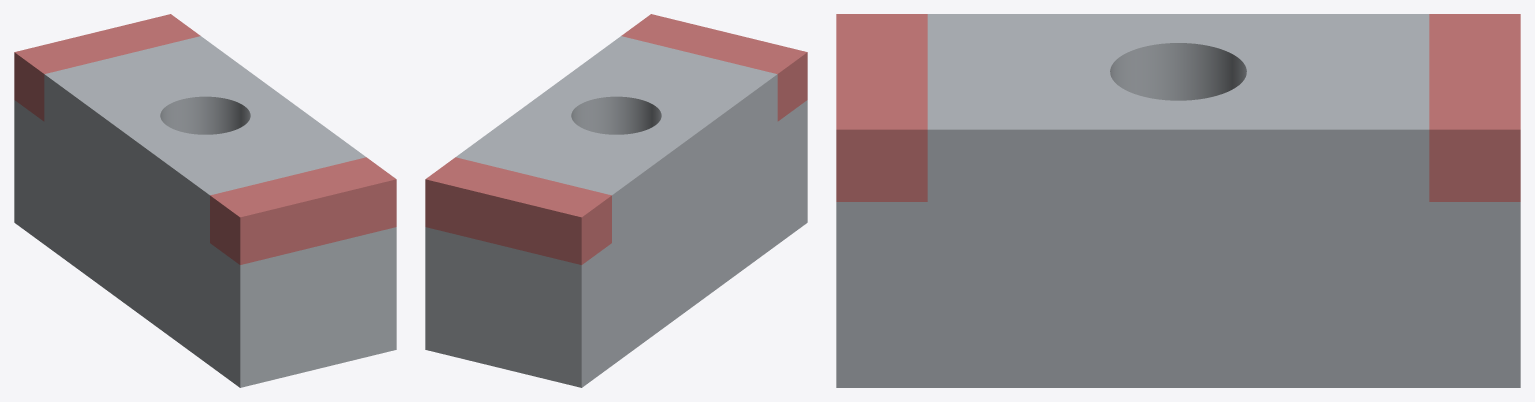
The model's file is step_03.glb.
3 views of the same model, side by side, from view 1: azimuth 30°, elevation 25°; view 2: azimuth 150°, elevation 25°; view 3: azimuth 270°, elevation 25° (orthographic). The views are drawn at different scales.
Parts seen in each view (by area): view 1: part__track fitting, removed__track fitting; view 2: part__track fitting, removed__track fitting; view 3: part__track fitting, removed__track fitting.
Boxes of the visible parts, bbox=[...] form: part__track fitting: bbox=[14, 36, 396, 387]; removed__track fitting: bbox=[14, 14, 396, 264]; part__track fitting: bbox=[425, 36, 807, 387]; removed__track fitting: bbox=[425, 14, 807, 264]; part__track fitting: bbox=[836, 14, 1520, 387]; removed__track fitting: bbox=[836, 14, 1520, 201].
Bounding box in the file's own units: 24 × 25 × 60.
